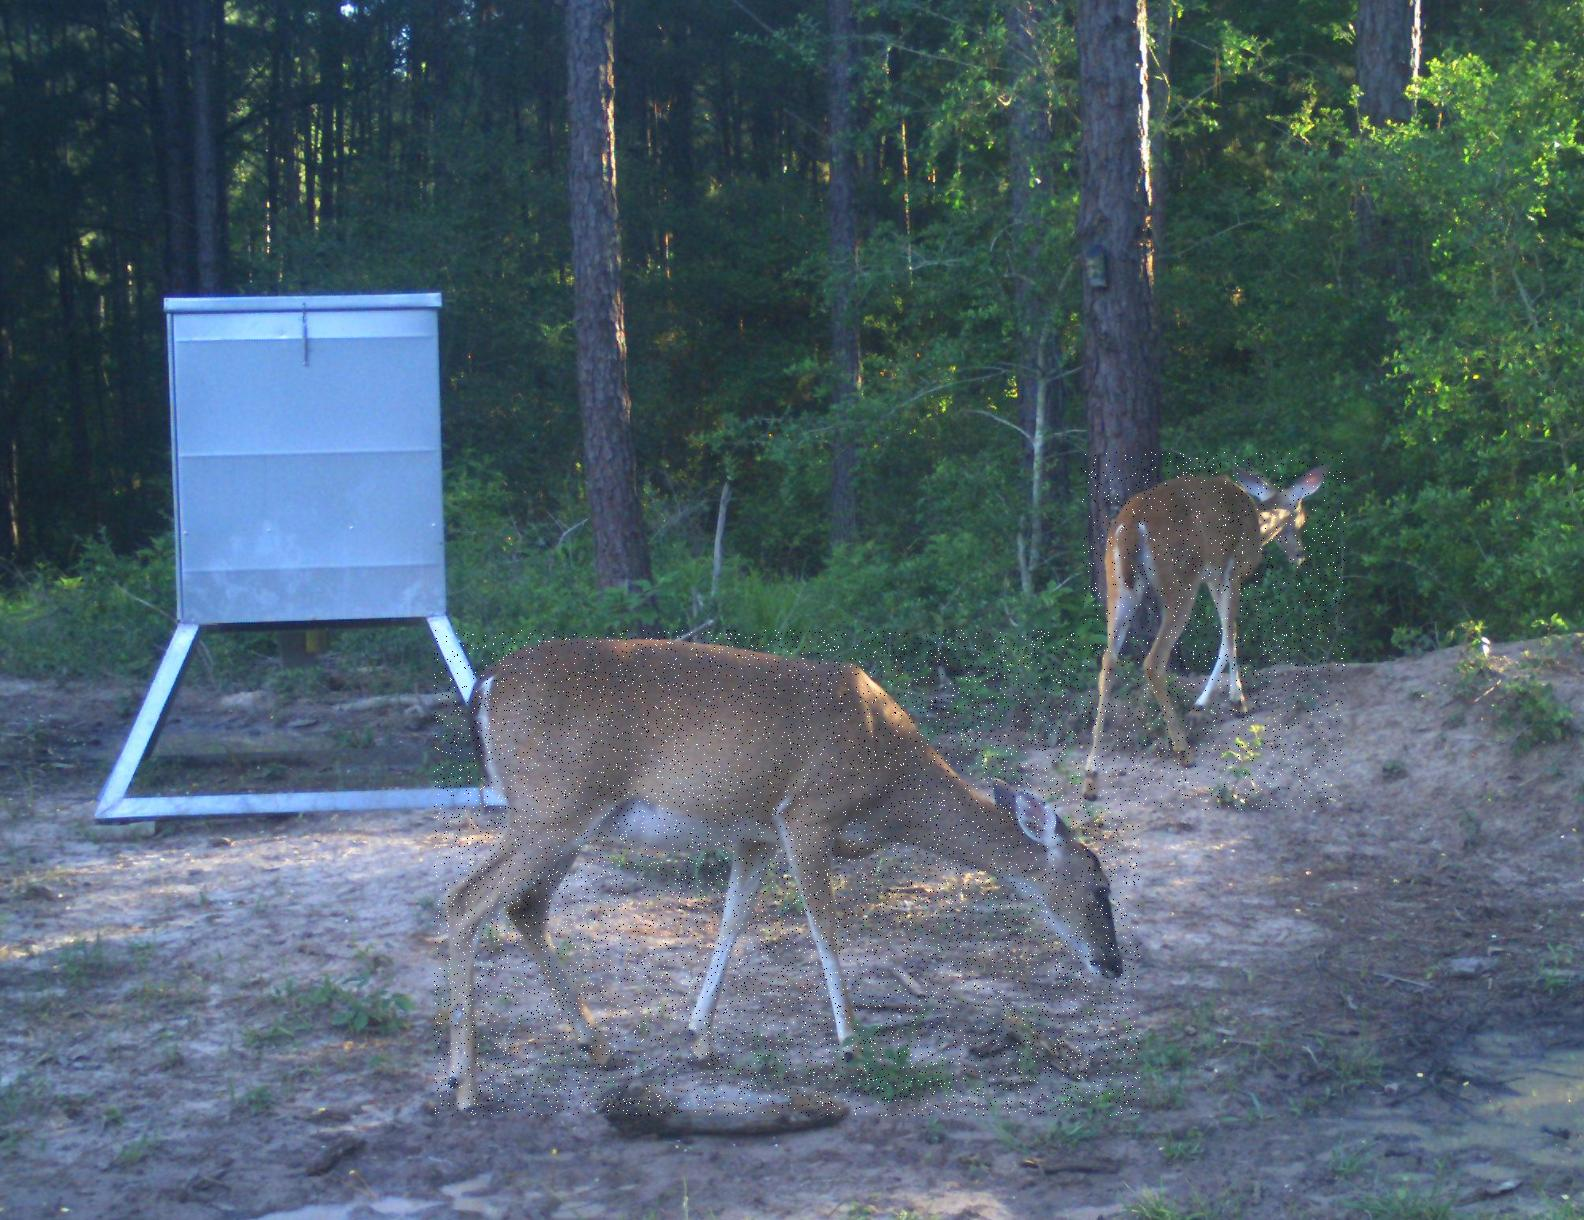Deer: (434, 631, 1141, 1116), (1082, 452, 1346, 810)
